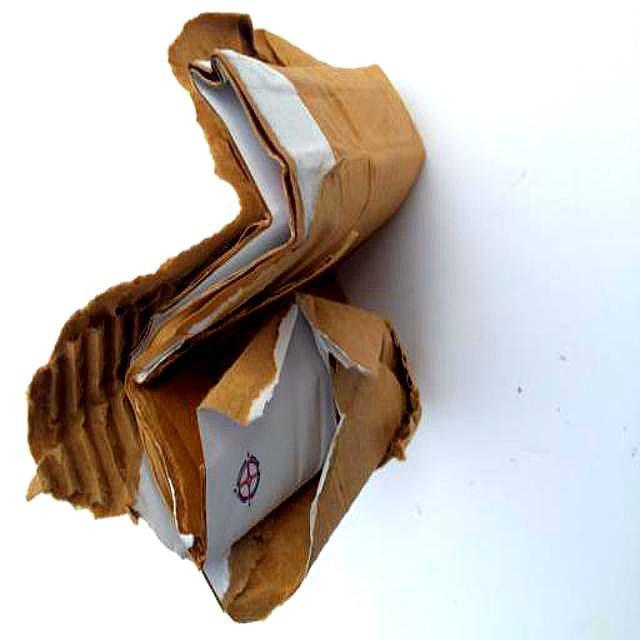Biodegradable: (33, 9, 431, 621)
